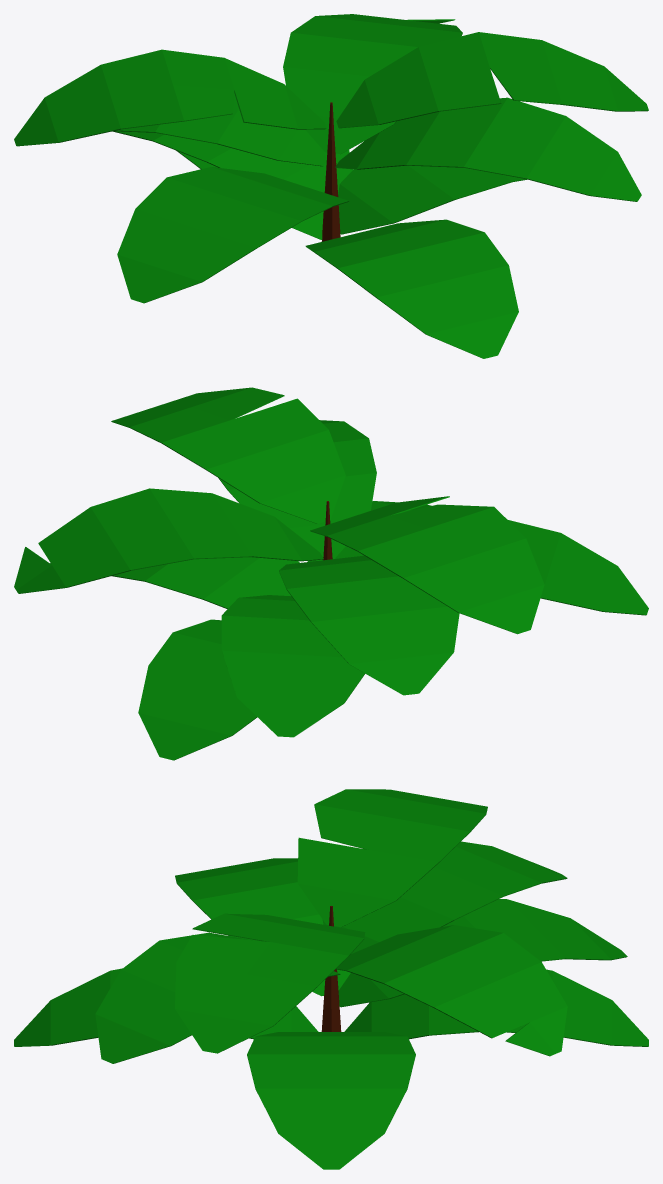
The model's file is _dgePlant.fbx.
3 views of the same model, one above another, from view 1: azimuth 30°, elevation 25°; view 2: azimuth 150°, elevation 25°; view 3: azimuth 270°, elevation 25° (orthographic).
Parts seen in each view (by area): view 1: Plane.001, Plane.006, Plane.013, Plane.015, Plane.009, Plane.008, Plane, Plane.011, Plane.007, Cube, Plane.003; view 2: Plane.008, Plane.015, Plane.013, Plane.011, Plane.007, Plane.003, Plane.006, Plane, Plane.009; view 3: Plane, Plane.013, Plane.008, Plane.015, Plane.011, Plane.009, Plane.003, Plane.007, Plane.006, Plane.001, Cube.
Part boxes in pixels (x1,y1,x2,y2): Plane.001: (305, 219, 518, 358); Plane.006: (117, 167, 348, 303); Plane.013: (336, 32, 648, 128); Plane.015: (14, 49, 326, 146); Plane.009: (335, 97, 641, 201); Plane.008: (283, 14, 462, 154); Plane: (338, 165, 526, 234); Plane.011: (113, 93, 326, 166); Plane.007: (112, 131, 327, 192); Cube: (321, 102, 340, 241); Plane.003: (176, 150, 352, 239); Plane.008: (14, 488, 323, 593); Plane.015: (310, 496, 544, 634); Plane.013: (111, 387, 345, 523); Plane.011: (279, 555, 459, 695); Plane.007: (221, 595, 364, 737); Plane.003: (138, 619, 257, 760); Plane.006: (508, 520, 648, 615); Plane: (50, 557, 299, 608); Plane.009: (218, 420, 376, 560); Plane: (247, 1032, 415, 1169); Plane.013: (175, 913, 365, 1053); Plane.008: (336, 925, 567, 1056); Plane.015: (297, 789, 487, 927); Plane.011: (322, 841, 567, 953); Plane.009: (95, 932, 340, 1063); Plane.003: (344, 969, 648, 1046); Plane.007: (338, 899, 627, 1007); Plane.006: (175, 858, 350, 996); Plane.001: (14, 968, 318, 1046); Cube: (321, 906, 341, 1031).
Size of the model in its own units: 727 by 218 by 751.
